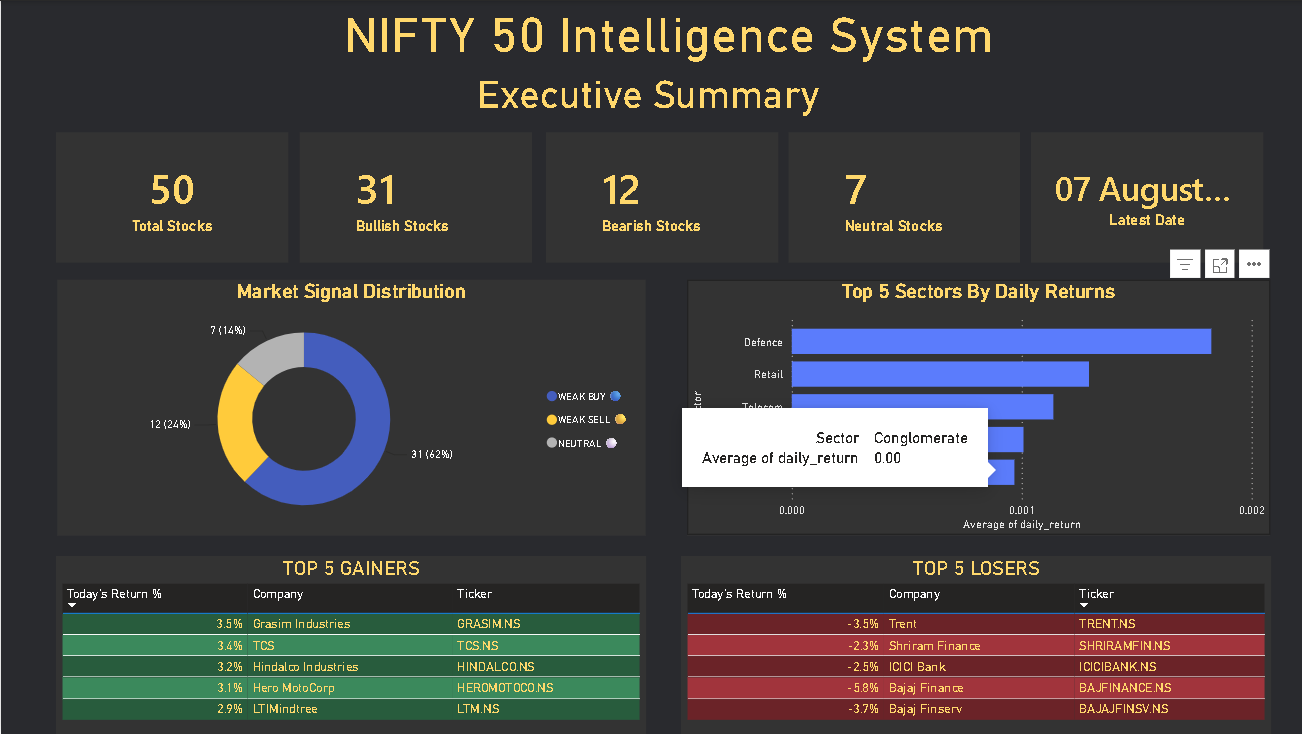

Layout of this report page (visuals, bound fields, positions):
{"tool":"powerbi","page":{"name":"Executive Summary","canvas":[1280,720],"ordinal":0},"visuals":[{"type":"textbox","box":[331.3,0,668.7,72.4],"z":0},{"type":"textbox","box":[462.6,63.8,355.8,56.4],"z":1000},{"type":"cardVisual","fields":{"Data":["Count(StockData.Ticker)"]},"box":[54,128.8,228.2,127.6],"z":2000},{"type":"cardVisual","fields":{"Data":["CurrentSignal.Bullish_count"]},"box":[293.3,128.8,228.2,127.6],"z":3000},{"type":"cardVisual","fields":{"Data":["CurrentSignal.Neutral Stocks"]},"box":[773,128.8,227,127.6],"z":4000},{"type":"cardVisual","fields":{"Data":["CurrentSignal.Bearish Stocks"]},"box":[535,128.8,228.2,127.6],"z":5000},{"type":"cardVisual","fields":{"Data":["Max(StockData.Date)"]},"box":[1011,128.8,228.2,127.6],"z":6000},{"type":"donutChart","title":"Market Signal Distribution","fields":{"Category":["CurrentSignal.final_signal"],"Y":["CountNonNull(CurrentSignal.Ticker)"]},"box":[54.9,273.1,577.7,251.1],"z":7000},{"type":"clusteredBarChart","title":"Top 5 Sectors By Daily Returns","fields":{"Category":["StockData.Sector"],"Y":["Avg(StockData.daily_return)"]},"box":[673.8,273.1,572.2,251.1],"z":8000},{"type":"tableEx","title":"TOP 5 GAINERS","fields":{"Values":["StockData.Today's Return %","StockData.Company","StockData.Ticker"]},"box":[53.5,544.8,579.1,175.6],"z":9000},{"type":"tableEx","title":"TOP 5 LOSERS","fields":{"Values":["StockData.Today's Return %","StockData.Company","StockData.Ticker"]},"box":[666.9,544.8,579.1,175.6],"z":10000}]}

Visuals, with their boxes in screenshot pixels (x1, y1, x2, y2), scaled from the page's 1280x720 canvas onto the 1302x734 screenshot:
textbox: locate(337, 0, 1017, 74)
textbox: locate(471, 65, 832, 123)
cardVisual - Count(StockData.Ticker): locate(55, 131, 287, 261)
cardVisual - CurrentSignal.Bullish_count: locate(298, 131, 530, 261)
cardVisual - CurrentSignal.Neutral Stocks: locate(786, 131, 1017, 261)
cardVisual - CurrentSignal.Bearish Stocks: locate(544, 131, 776, 261)
cardVisual - Max(StockData.Date): locate(1028, 131, 1260, 261)
"Market Signal Distribution" donutChart: locate(56, 278, 643, 534)
"Top 5 Sectors By Daily Returns" clusteredBarChart: locate(685, 278, 1267, 534)
"TOP 5 GAINERS" tableEx: locate(54, 555, 643, 733)
"TOP 5 LOSERS" tableEx: locate(678, 555, 1267, 733)
